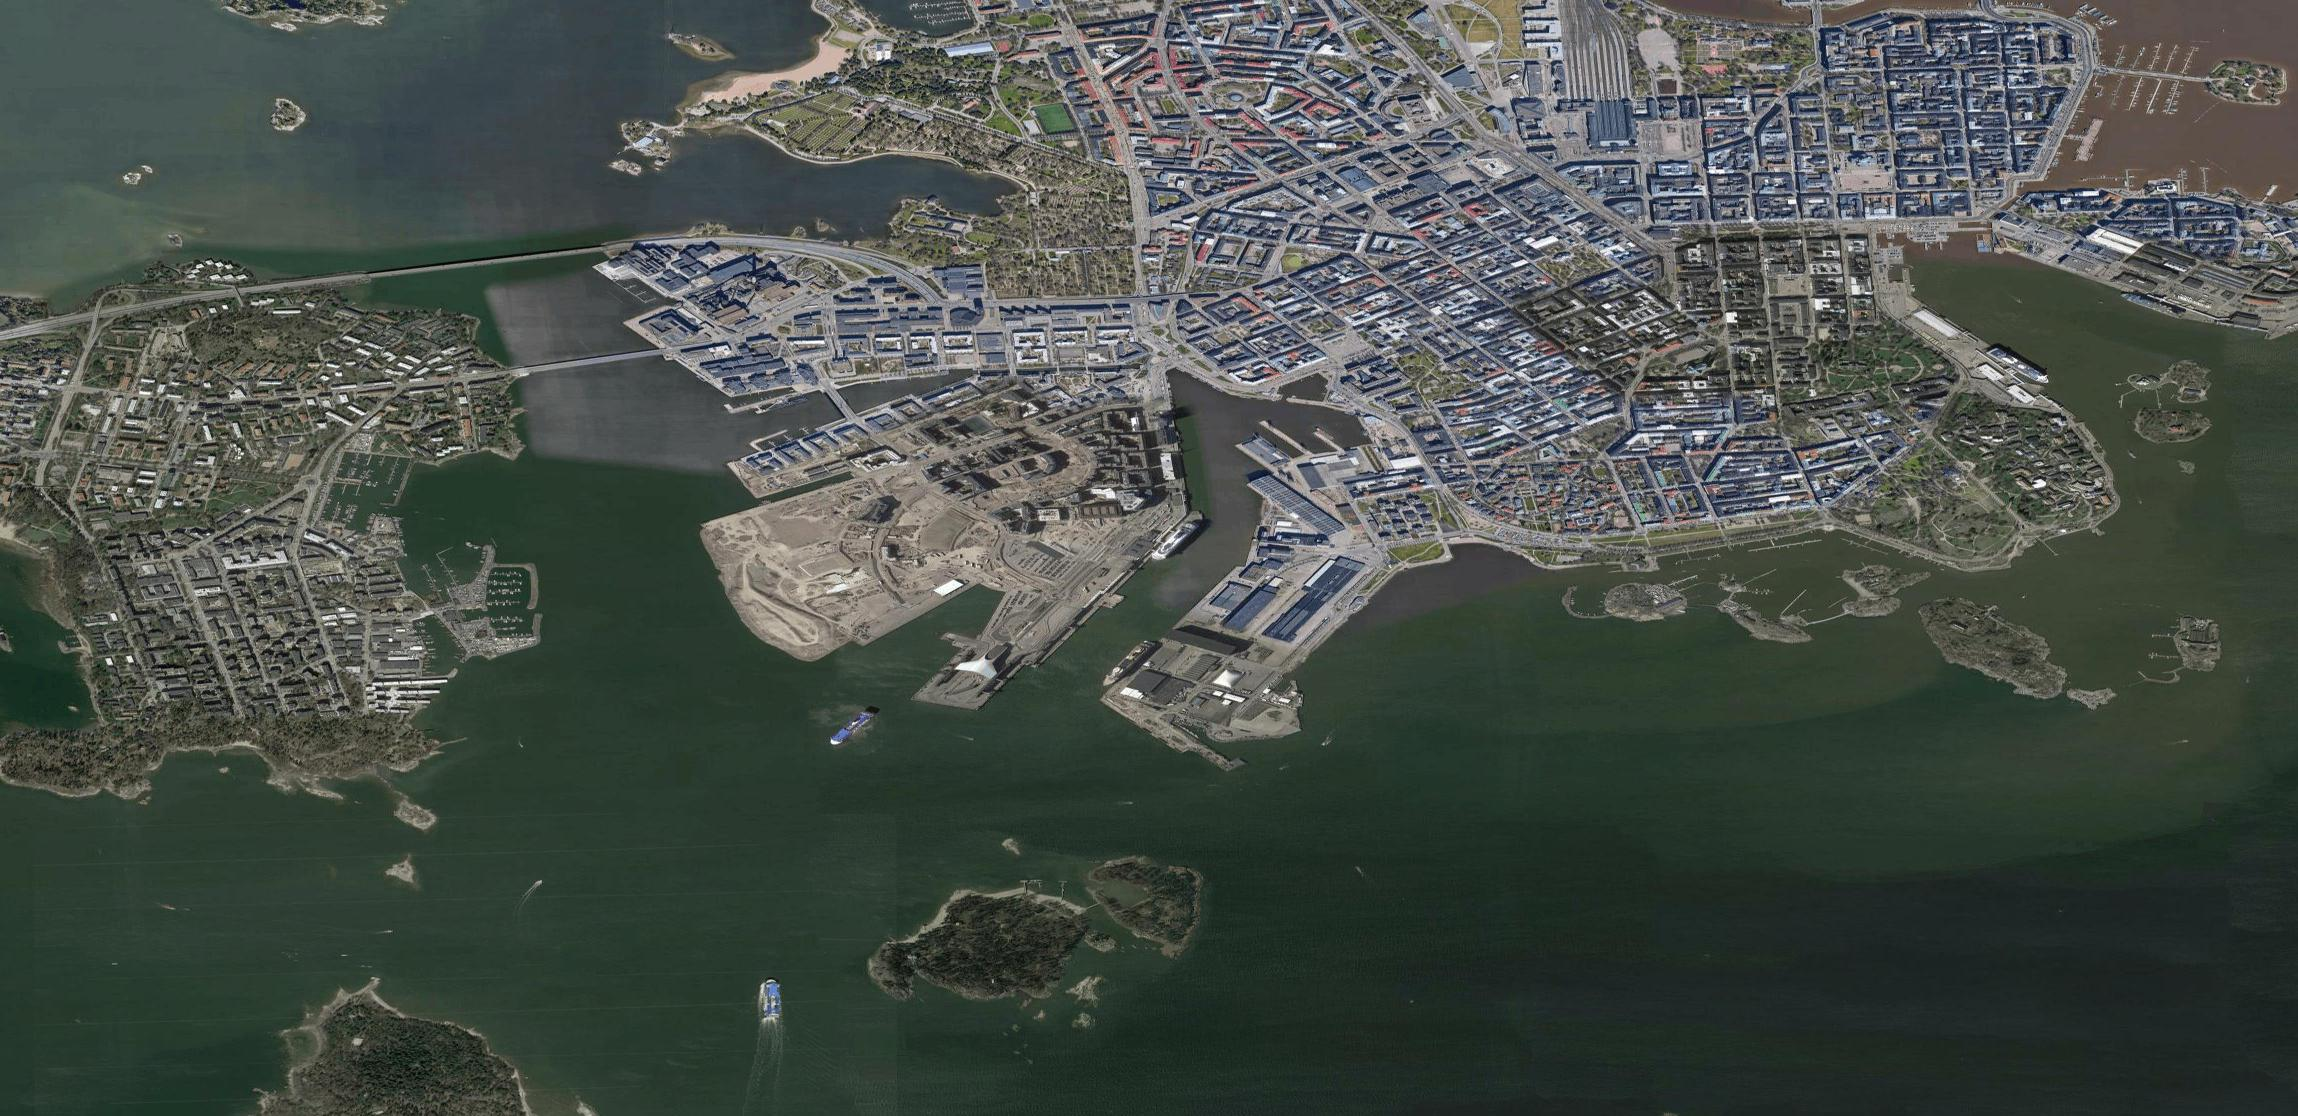bridge: (358, 243, 599, 276), (513, 346, 661, 387)
harbor: (692, 431, 1438, 776), (1876, 217, 2203, 436), (426, 538, 553, 664)
